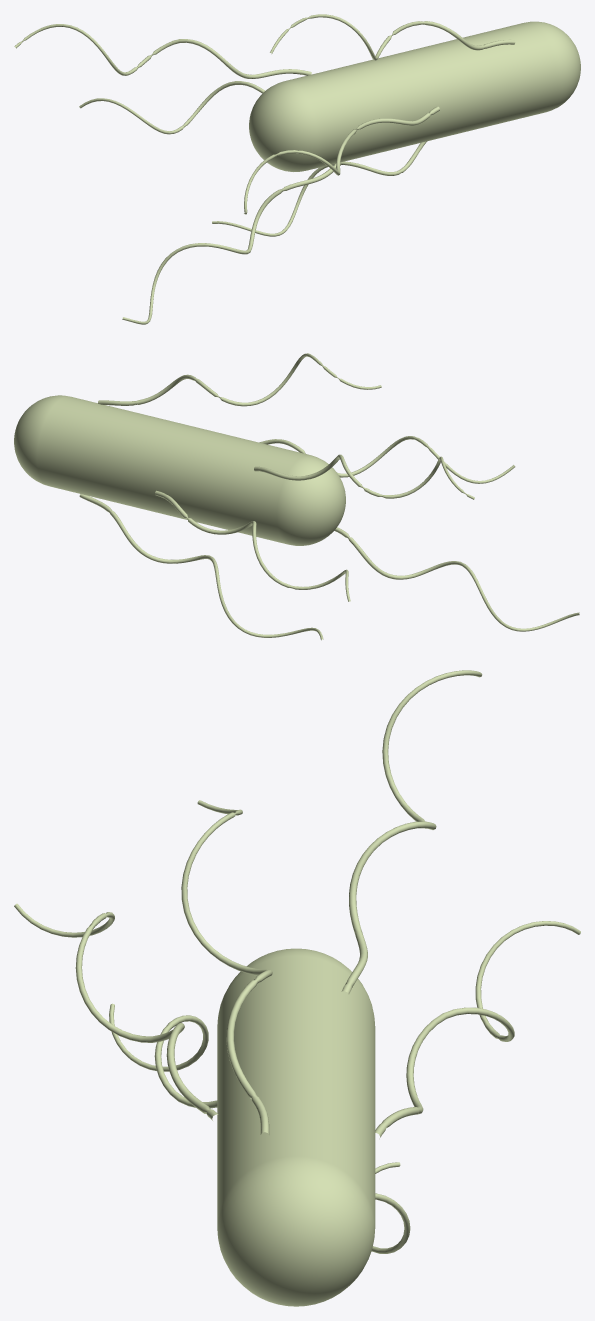
File: bacilo-esquematico.glb
3 views of the same model, one above another, from view 1: azimuth 30°, elevation 25°; view 2: azimuth 150°, elevation 25°; view 3: azimuth 270°, elevation 25° (orthographic). The views are drawn at different scales.
Visible parts, largest first — view 1: bacilo; view 2: bacilo; view 3: bacilo.
Part boxes in pixels (bbox=[...]): bacilo: bbox=[14, 14, 580, 324]; bacilo: bbox=[14, 353, 579, 640]; bacilo: bbox=[14, 670, 580, 1306].
Bounding box in the file's own units: 0.4764 × 0.2245 × 0.2691.
